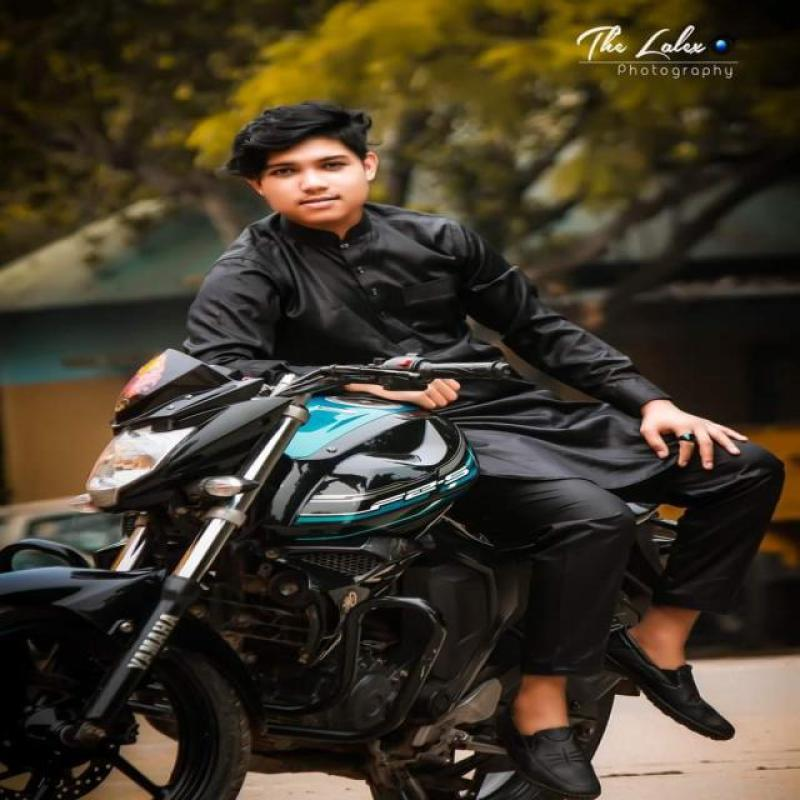nohelmet: (220, 97, 380, 233)
